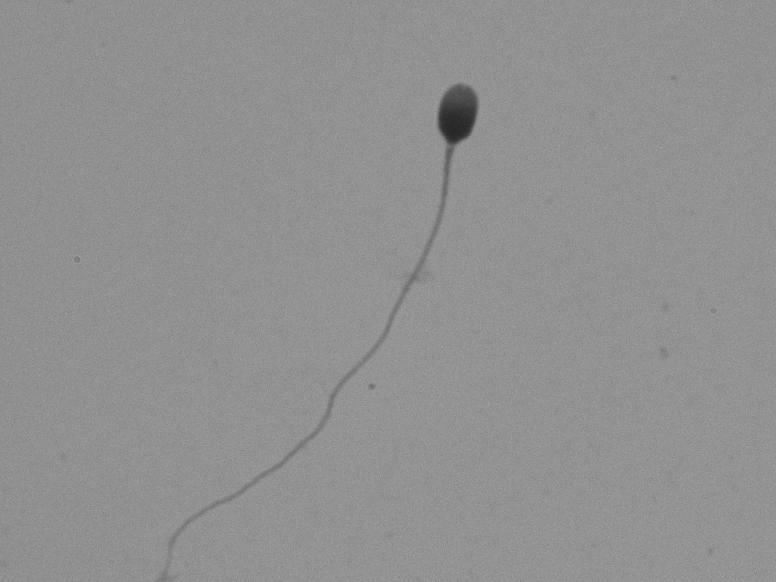Normal: (166, 45, 546, 552)
